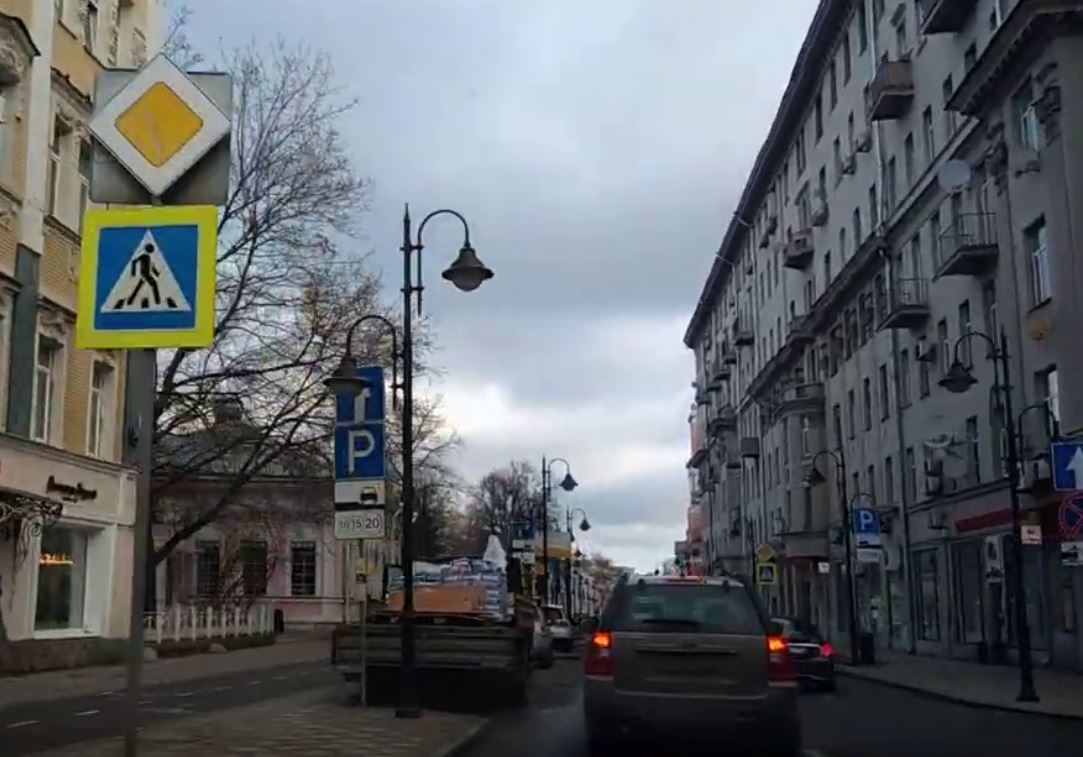Yaya Gecidi: (95, 226, 198, 330)
